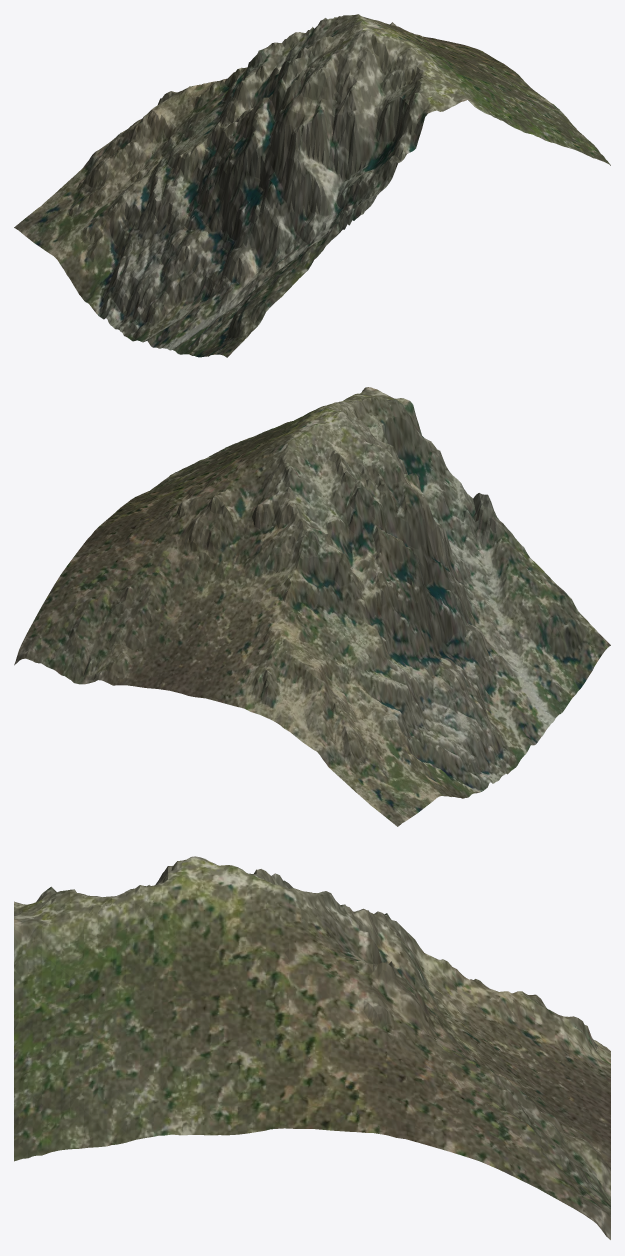
3 views of the same model, one above another, from view 1: azimuth 30°, elevation 25°; view 2: azimuth 150°, elevation 25°; view 3: azimuth 270°, elevation 25° (orthographic). The views are drawn at different scales.
Bounding box in the file's own units: 500 × 353 × 481.
Materials: 1 (1 with a texture image).
